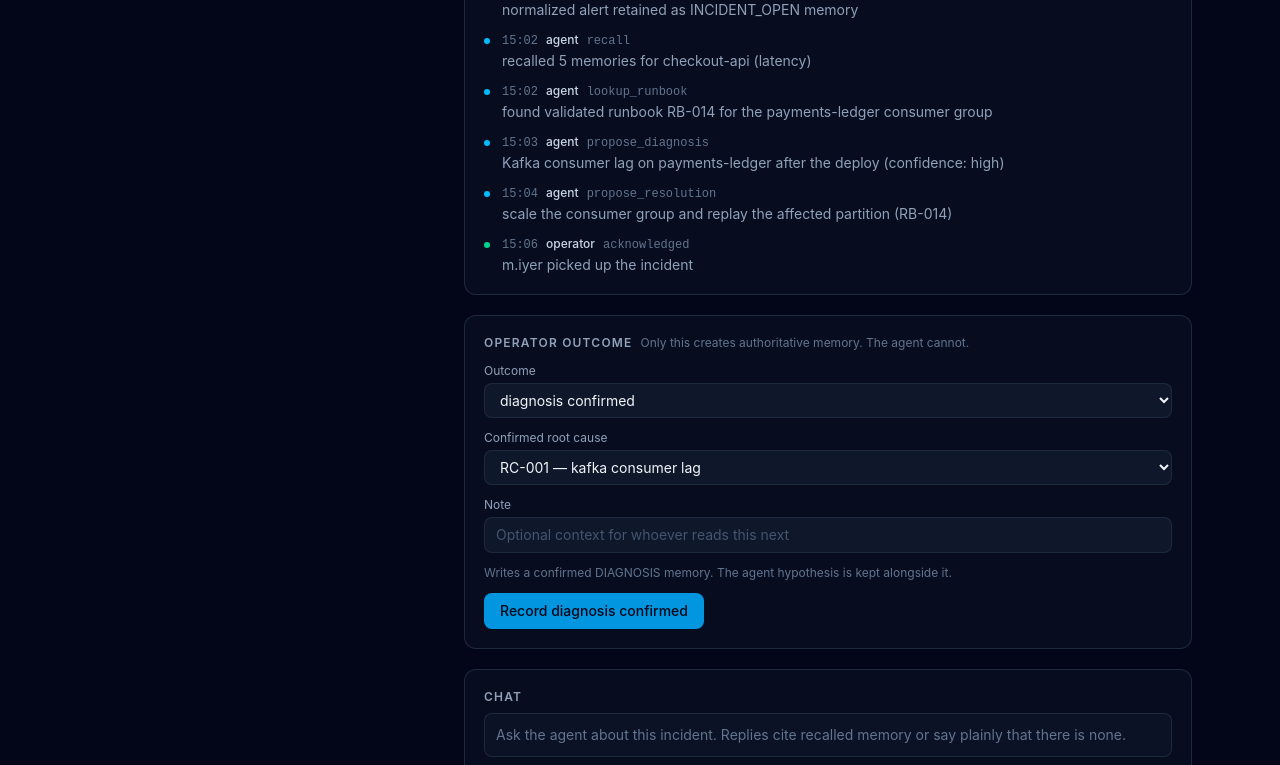
operator feedback › never renders a rejected diagnosis as a confirmed root cause
(page scrolled)
expect the dropdown labelled "Confirmed root cause" shows "RC-001 — kafka consumer lag": met, box [484,450,1172,485]
Select "diagnosis rejected" in the dropdown labelled "Outcome" at (828, 400), box [484,383,1172,418]
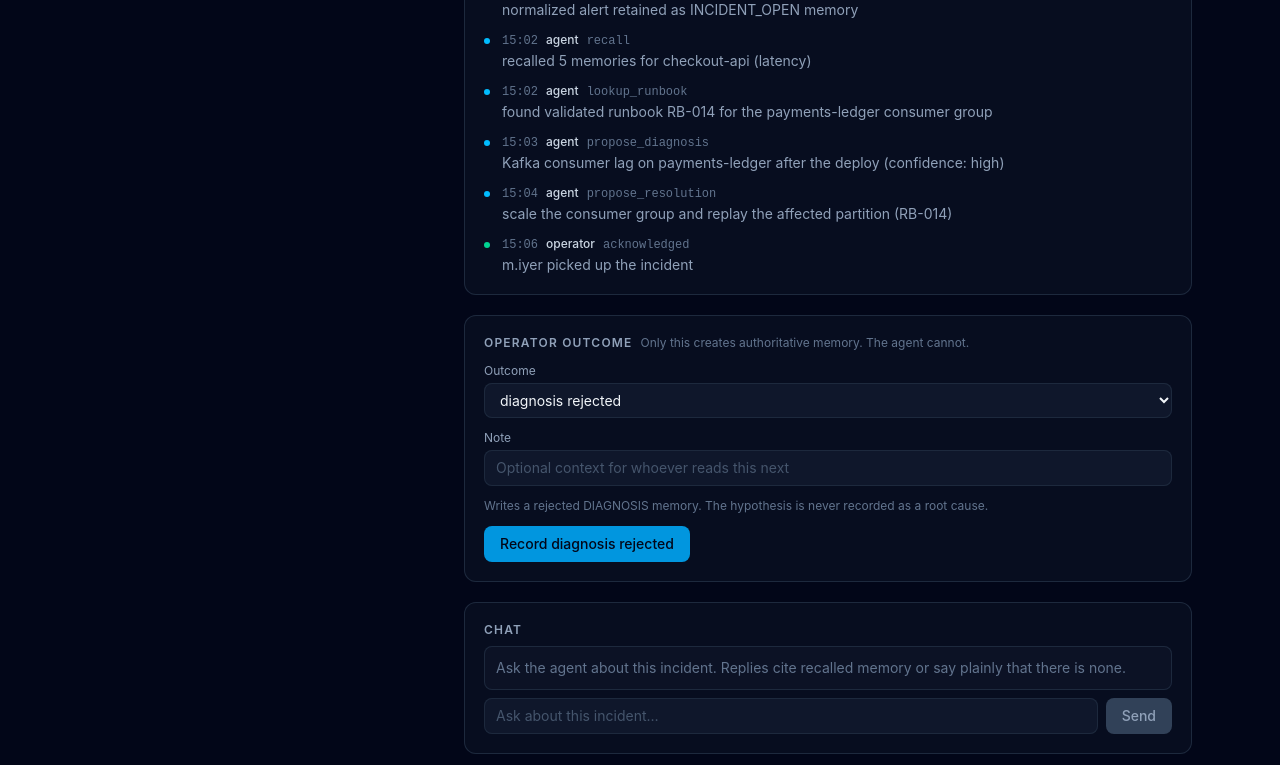
Click the button "Record diagnosis rejected" at (587, 544), box [484,526,690,562]
(page scrolled)
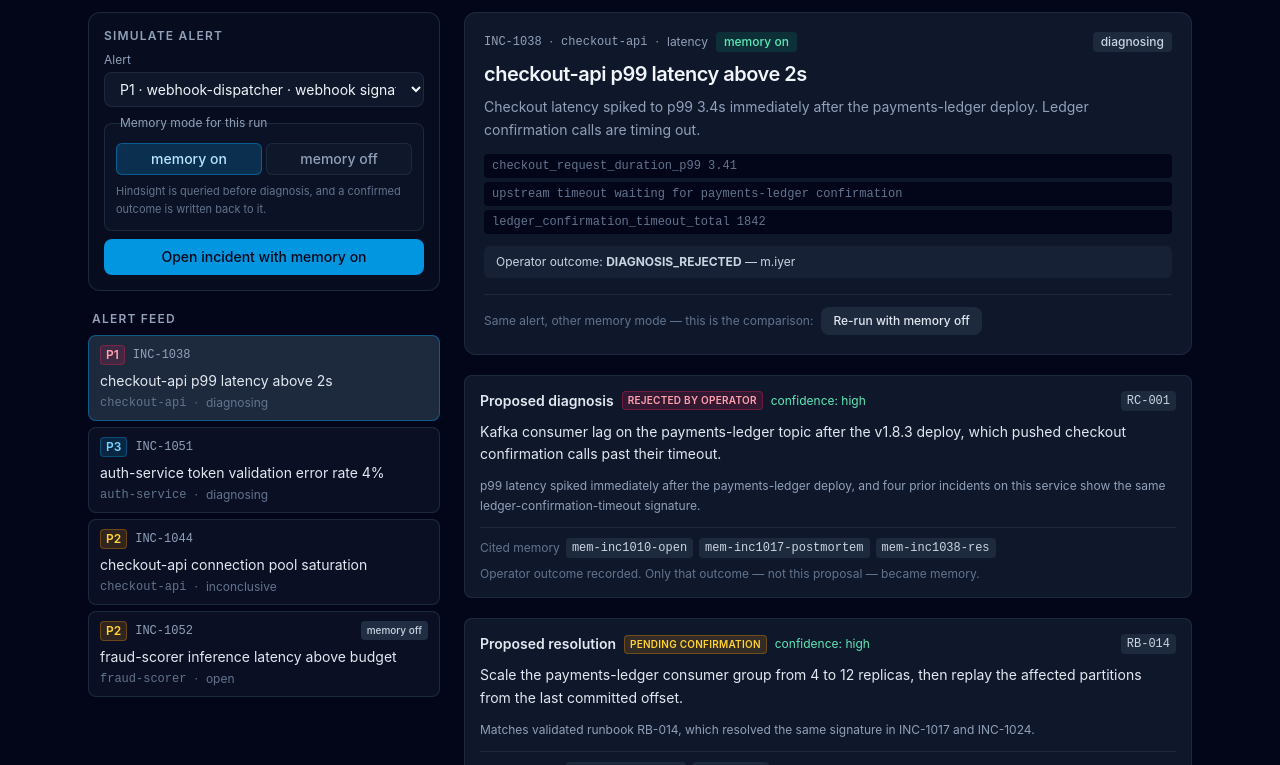
expect the element with test id "operator-outcome" does not show "root cause": met
expect the text with test id "proposal-state" reads "rejected by operator": met, box [628,394,757,406]
